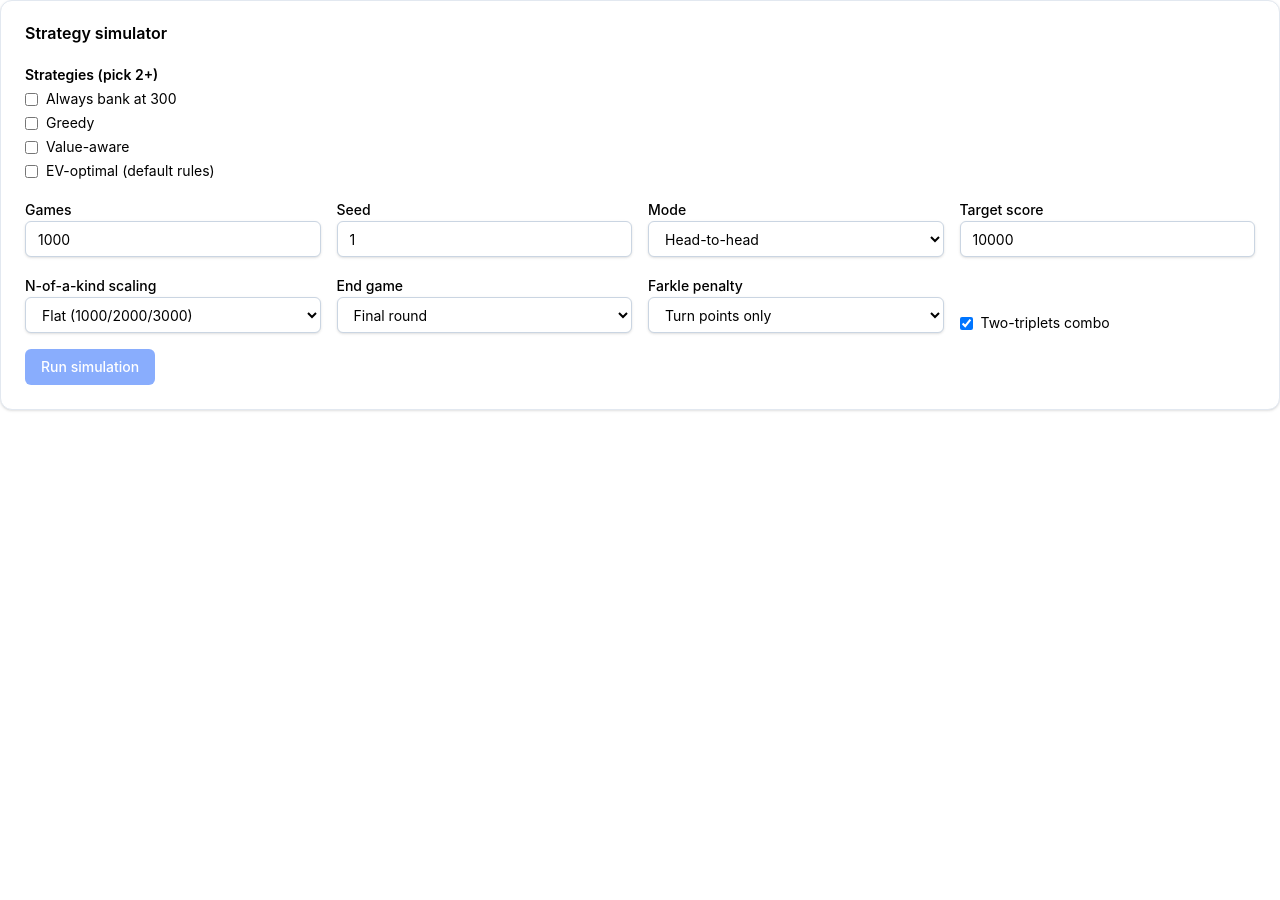
it: SimulatorPage › offers CSV and JSON export once results exist
Click the checkbox labelled "Always bank at 300". click: (32, 99)
box: [25,92,38,106]
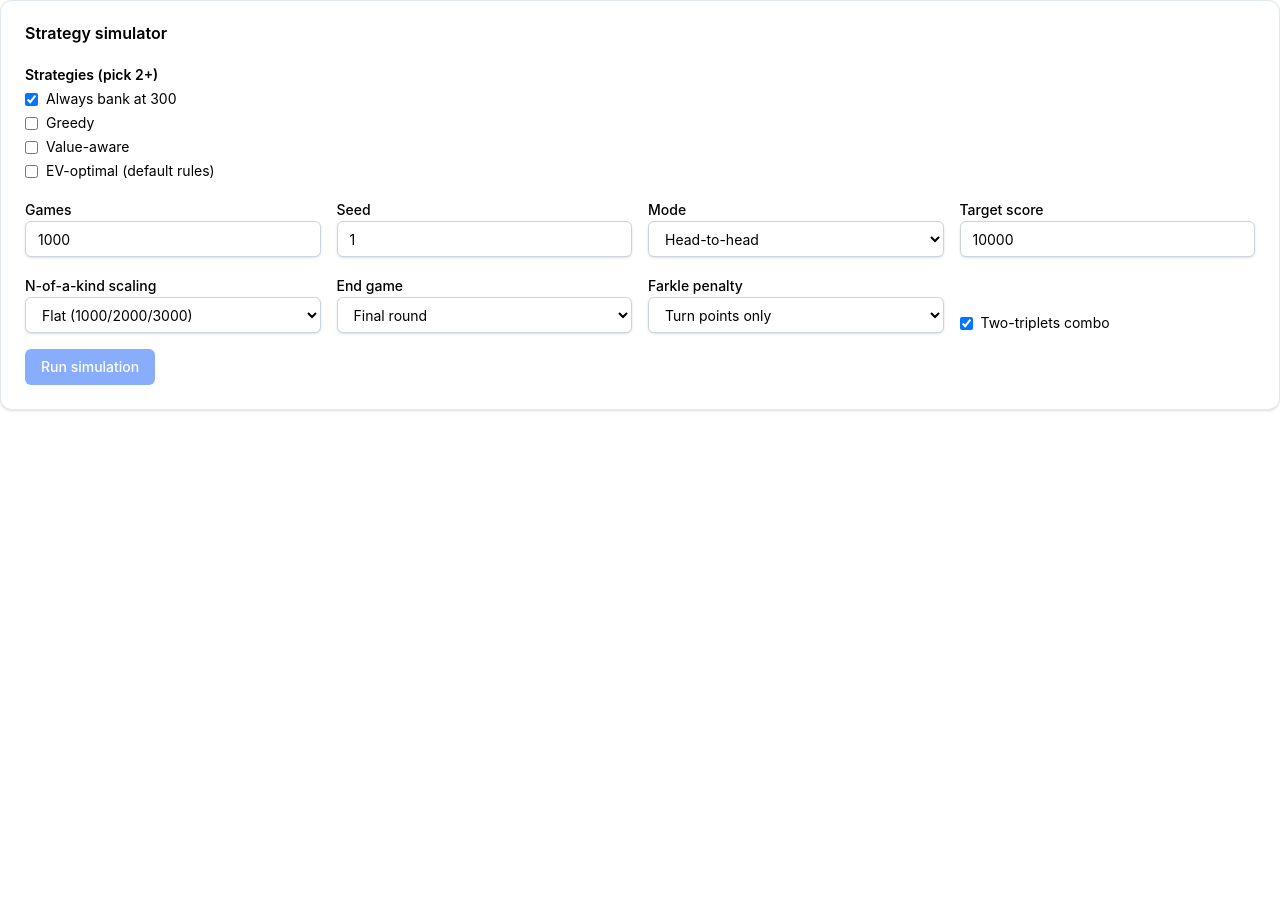
Click the checkbox labelled "EV-optimal (default rules)". click: (32, 171)
box: [25,164,38,178]
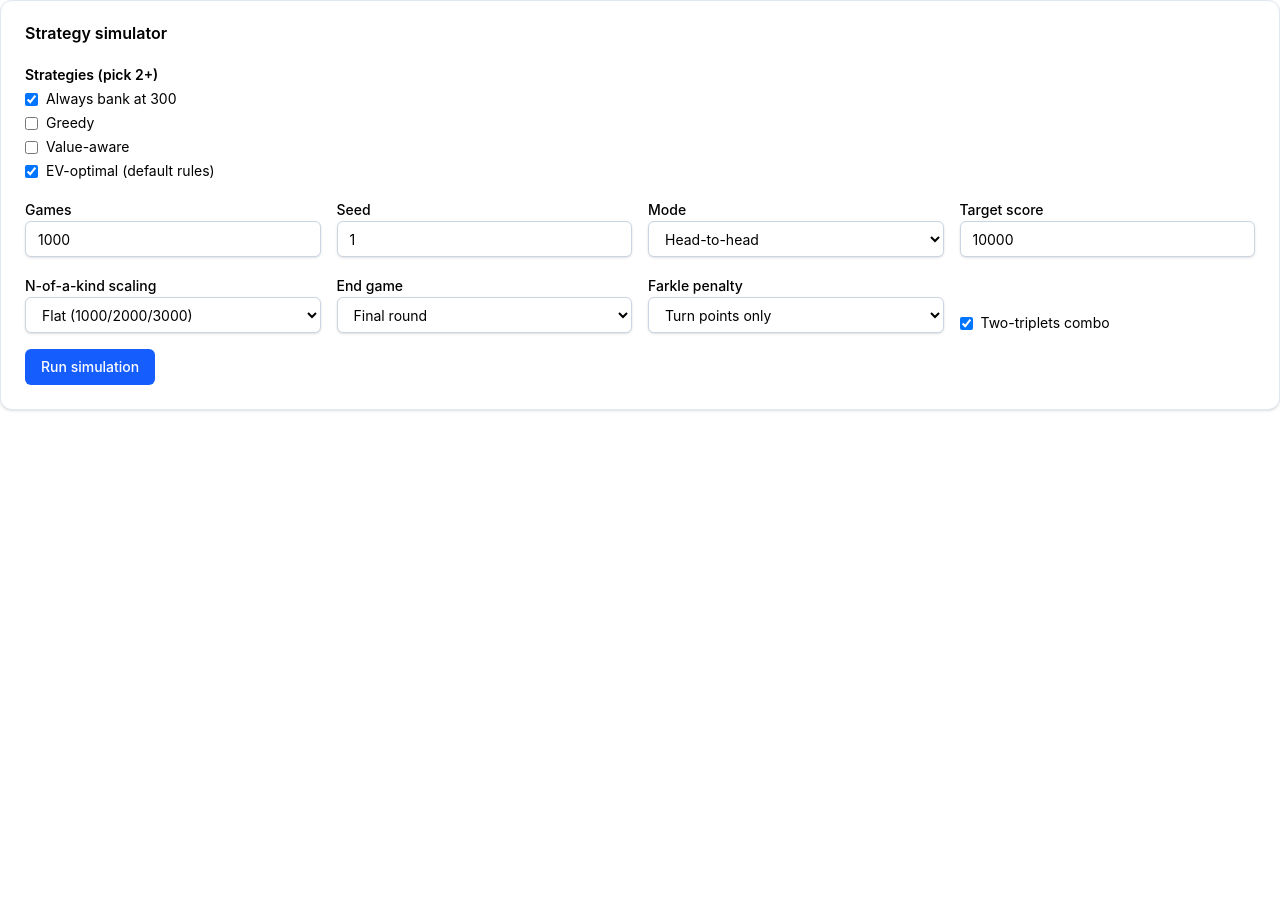
Replace the text in the number field labelled "Games" with "25". click: (173, 239)
box: [25,221,320,257]
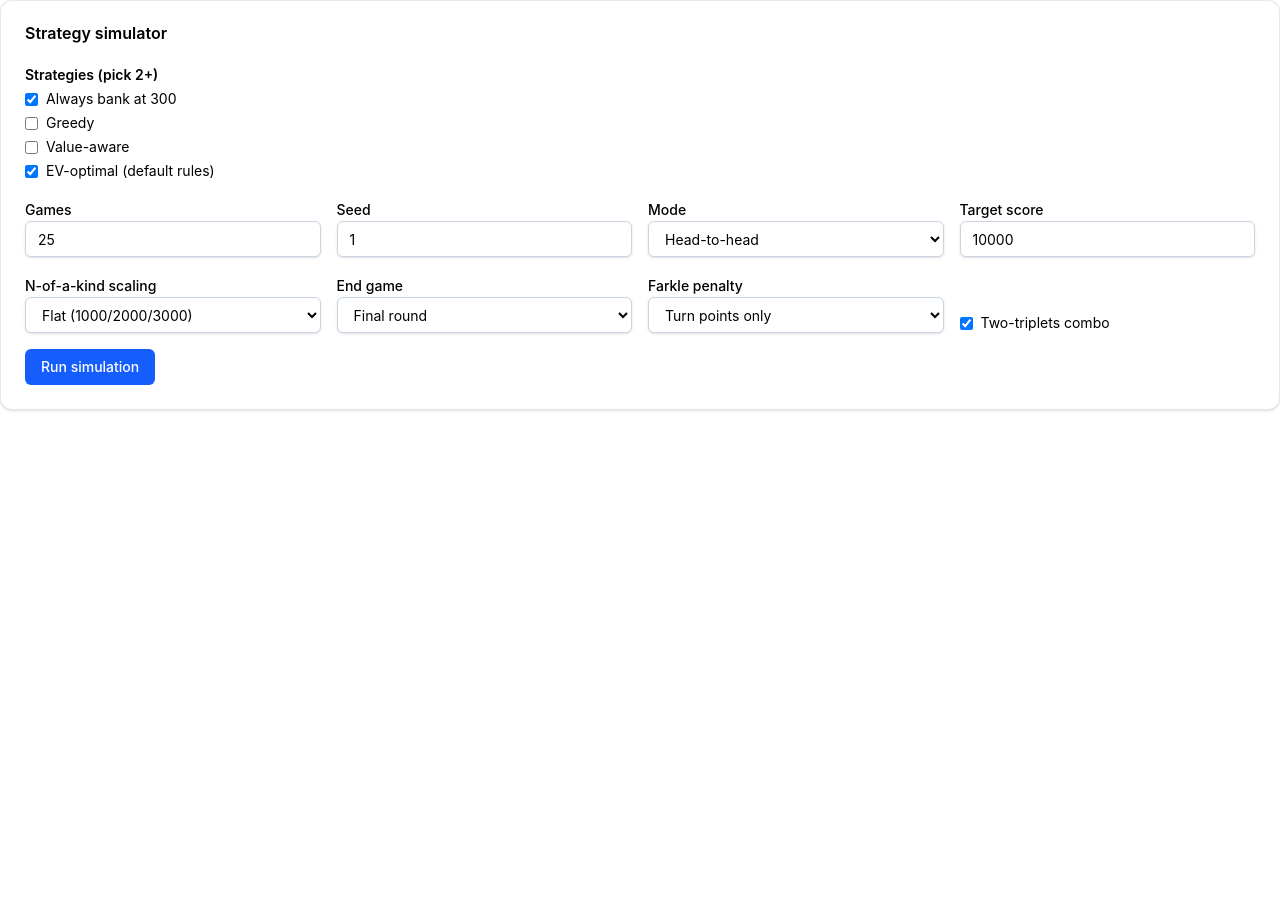
Replace the text in the number field labelled "Seed" with "5". click: (484, 239)
box: [336,221,632,257]
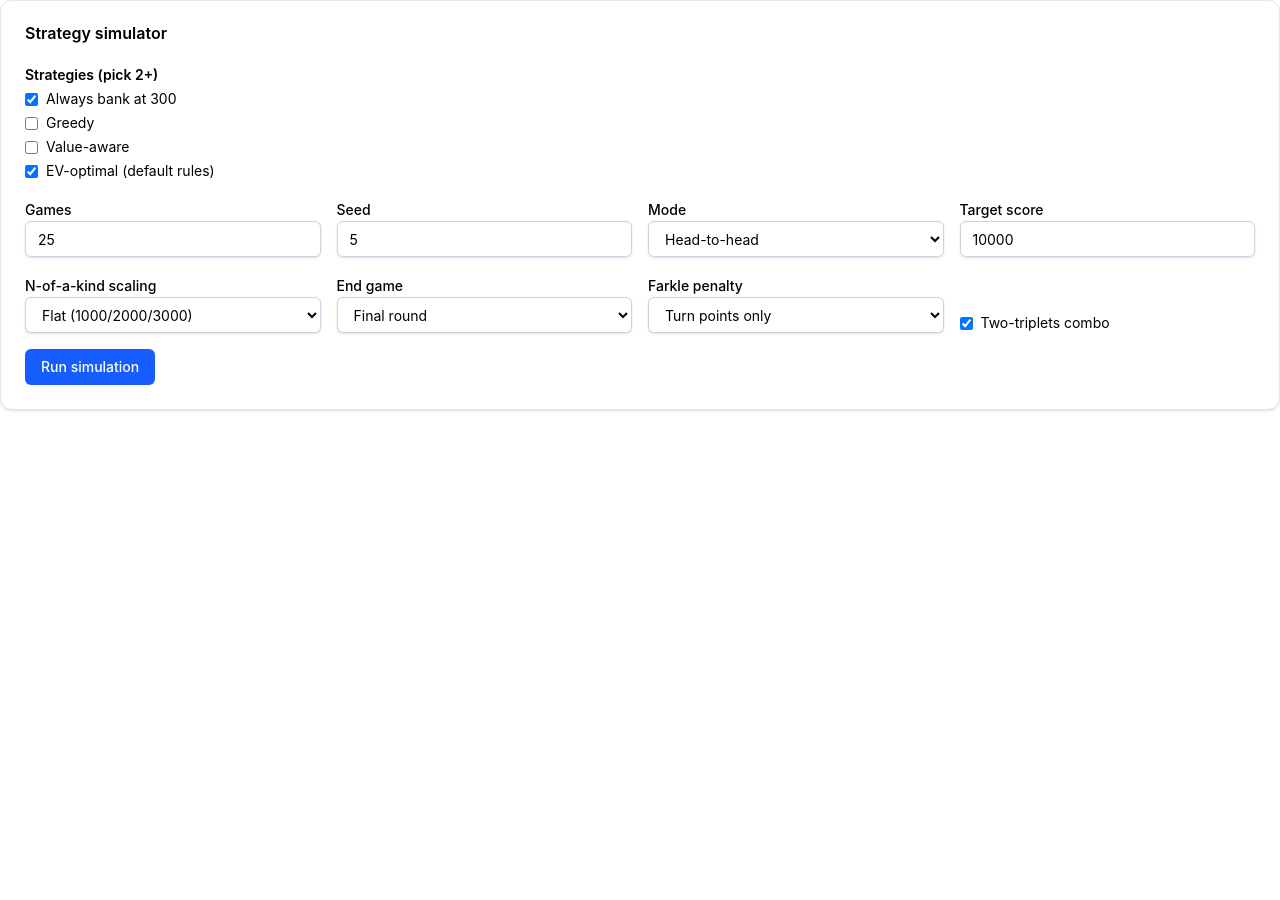
Click the button "Run simulation". click: (90, 367)
box: [25,349,155,385]
(page scrolled)
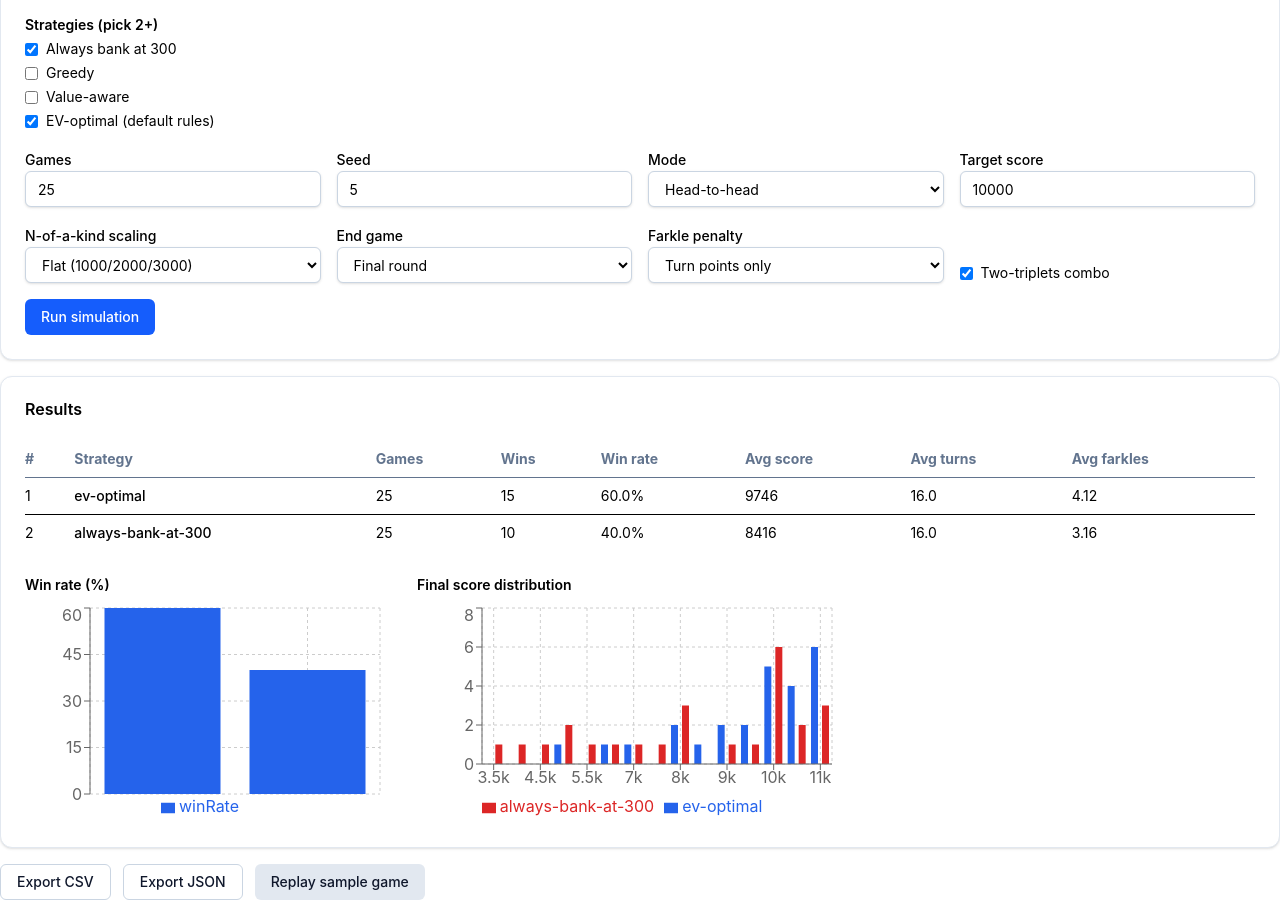
expect the table is shown: met, box [25,441,1255,551]
expect the button "Export CSV" is shown: met, box [0,864,111,899]
expect the button "Export JSON" is shown: met, box [123,864,243,899]
